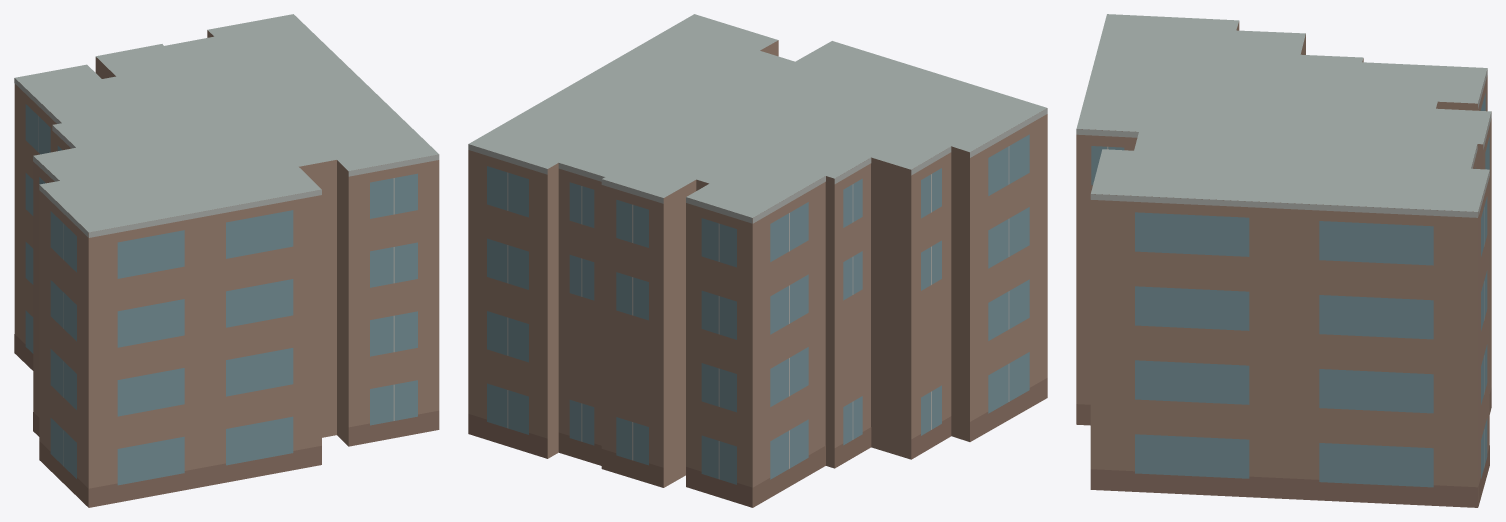
File: survey-upis-32487390.glb
3 views of the same model, side by side, from view 1: azimuth 30°, elevation 25°; view 2: azimuth 150°, elevation 25°; view 3: azimuth 270°, elevation 25° (orthographic). The views are drawn at different scales.
Visible parts, largest first — view 1: survey-upis-32487390.tmp; view 2: survey-upis-32487390.tmp; view 3: survey-upis-32487390.tmp.
Boxes of the visible parts, x1=… form: survey-upis-32487390.tmp: x1=14, y1=14, x2=439, y2=507; survey-upis-32487390.tmp: x1=468, y1=14, x2=1047, y2=507; survey-upis-32487390.tmp: x1=1076, y1=14, x2=1491, y2=507.
Size of the model in its own units: 17.52 by 12.2 by 15.52.
